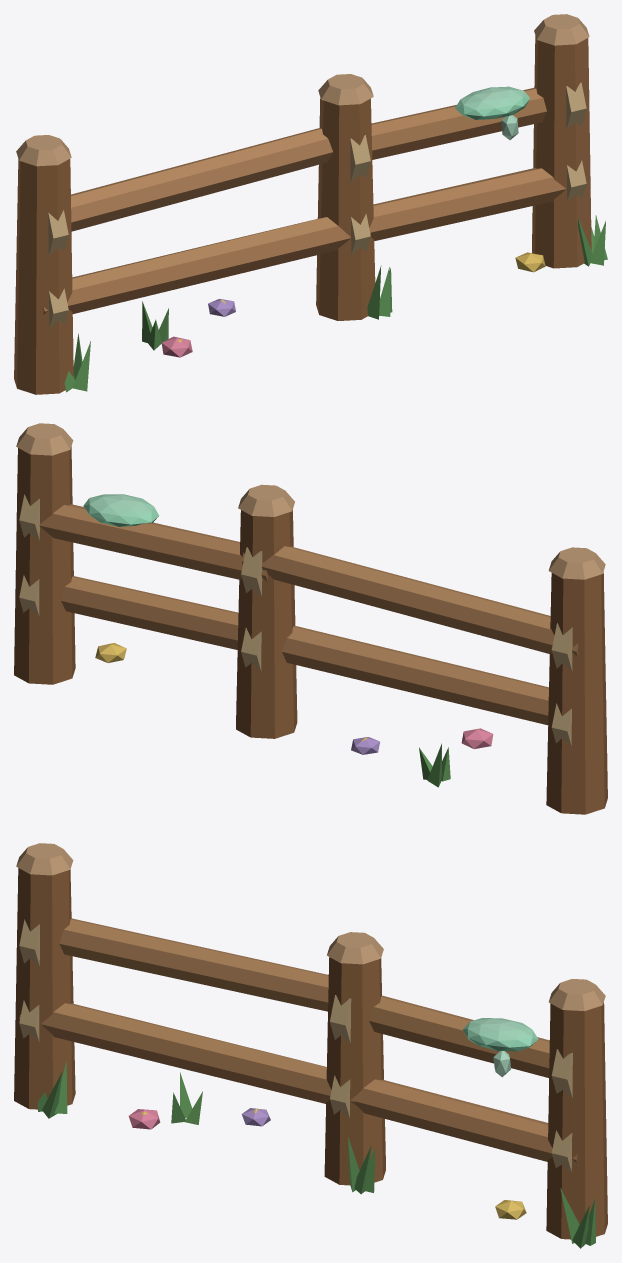
The model's file is ranch_rail_fence.fbx.
3 renders of one model, top to bottom at view 1: azimuth 30°, elevation 25°; view 2: azimuth 150°, elevation 25°; view 3: azimuth 330°, elevation 25°, orthographic. The views are drawn at different scales.
Visible parts, largest first — view 1: ranch_rail_fence; view 2: ranch_rail_fence; view 3: ranch_rail_fence.
Part boxes in pixels (x1,y1,x2,y2): ranch_rail_fence: [14, 14, 607, 394]; ranch_rail_fence: [14, 423, 607, 814]; ranch_rail_fence: [14, 843, 607, 1248].
Size of the model in its own units: 11.97 by 4.83 by 1.65.
